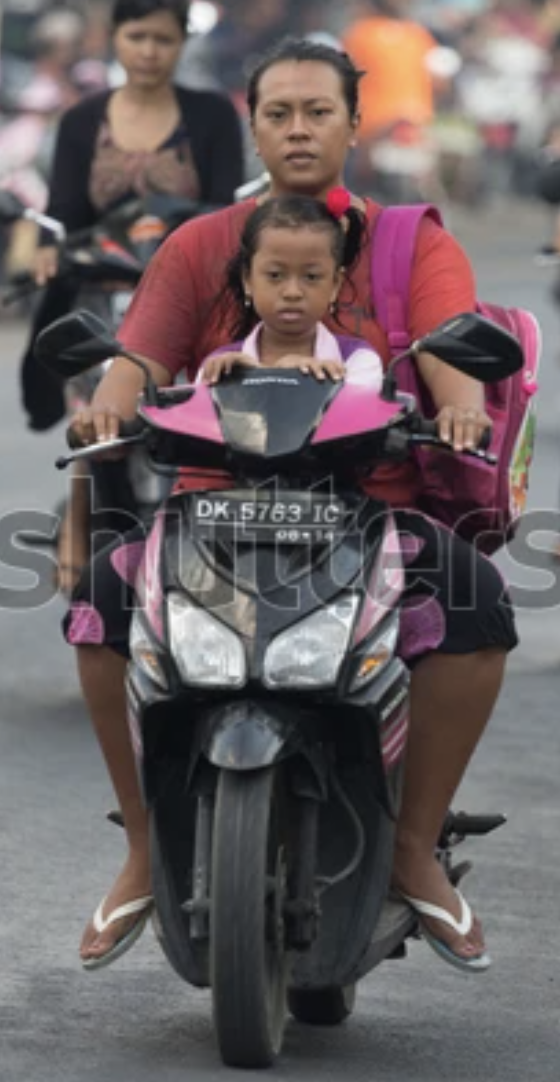motor: (64, 364, 518, 1057)
no helmet: (246, 36, 356, 186), (237, 198, 345, 333)
number: (193, 492, 344, 528)
